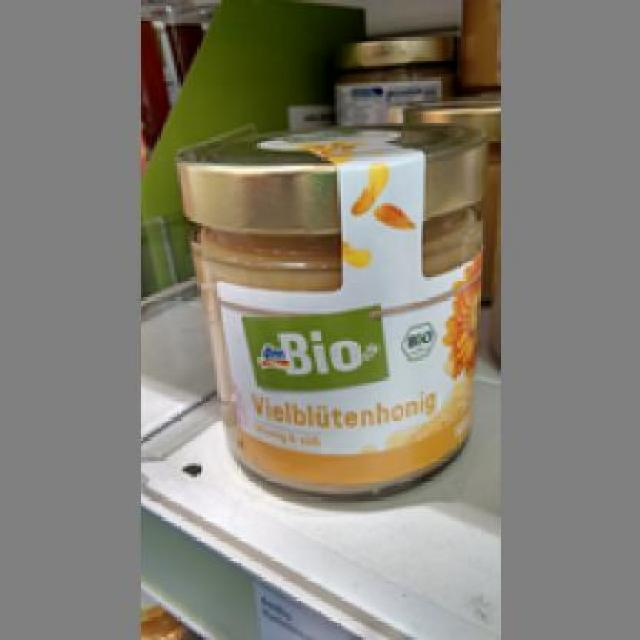Honey: (163, 120, 492, 497)
